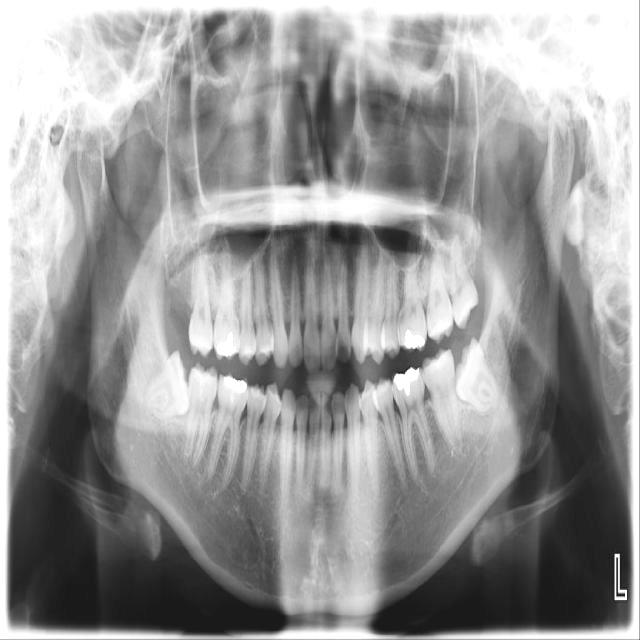Filling: (393, 366, 421, 396), (214, 332, 240, 358), (223, 375, 247, 396), (401, 327, 425, 347)
impacted tooth: (453, 340, 499, 412), (143, 349, 191, 417)
